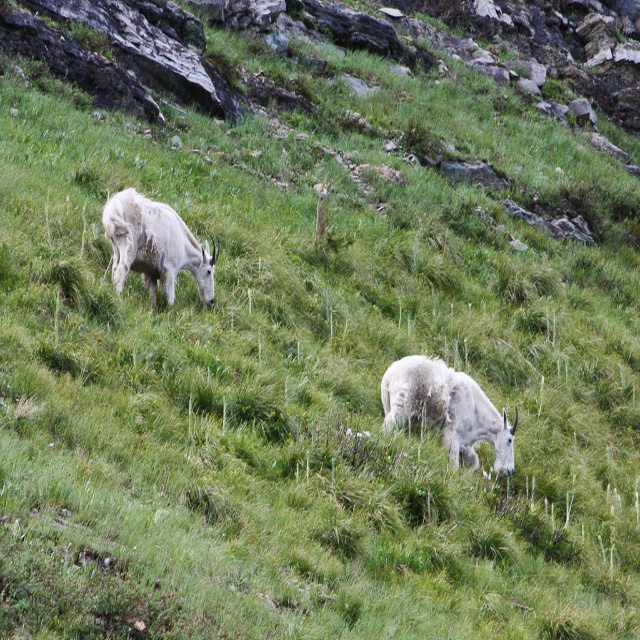Goat: (381, 354, 518, 479), (101, 185, 220, 307)
